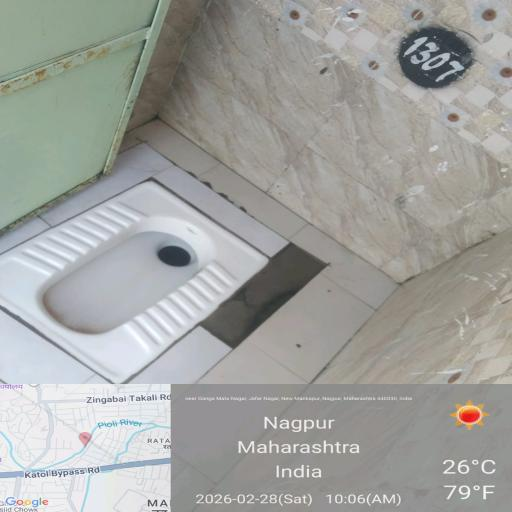clean_floor: (167, 0, 512, 249), (7, 29, 136, 200), (291, 293, 512, 388)
partial_dirty_indian: (0, 196, 273, 358)
